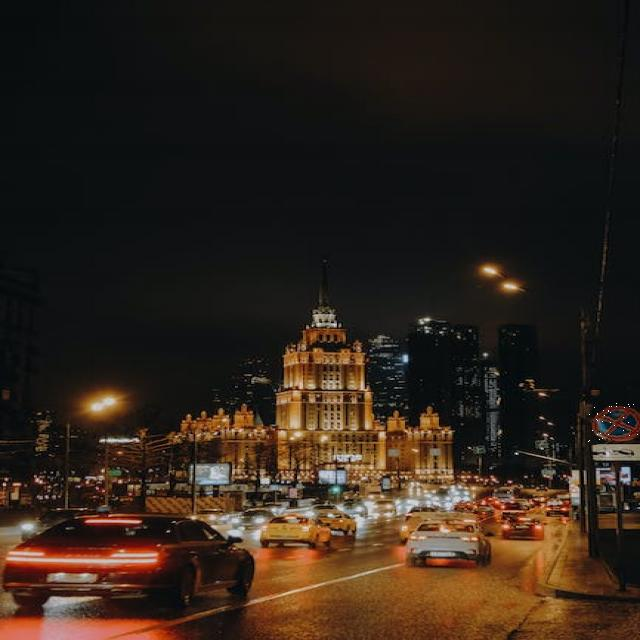no stopping: (586, 402, 640, 443)
